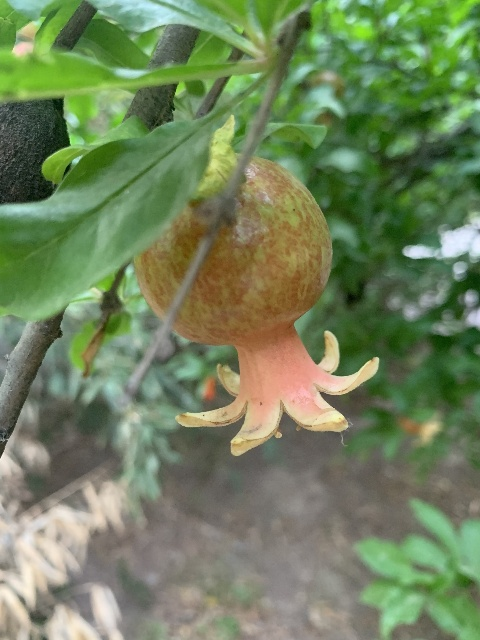early-fruit: (136, 154, 381, 456)
